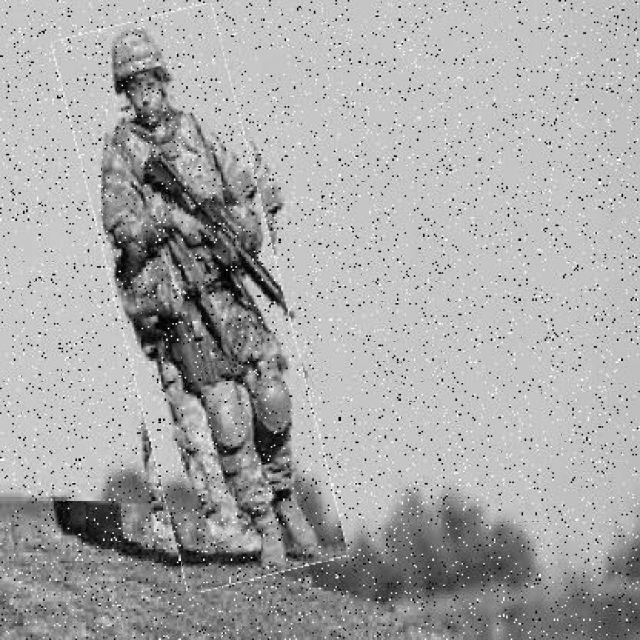Person: (84, 10, 316, 589)
